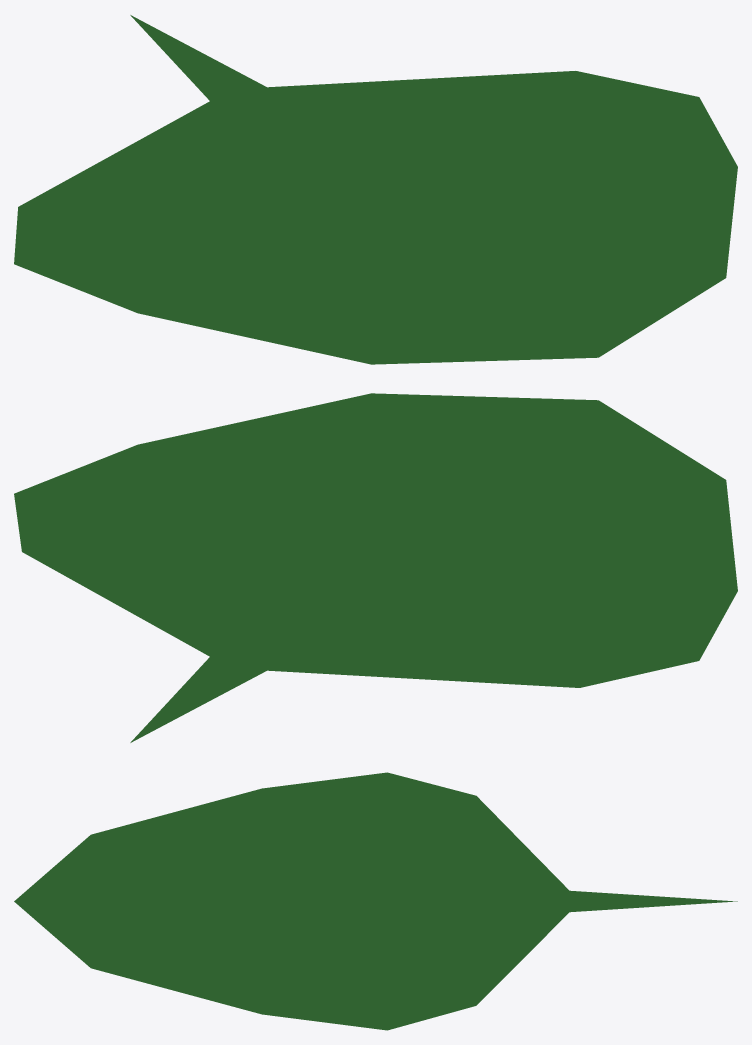
Rendered from TreeLeaves.fbx.
3 views of the same model, one above another, from view 1: azimuth 30°, elevation 25°; view 2: azimuth 150°, elevation 25°; view 3: azimuth 270°, elevation 25° (orthographic). The views are drawn at different scales.
Visible parts, largest first — view 1: pPlane33; view 2: pPlane33; view 3: pPlane33.
Part boxes in pixels (left/top/right/bottom): pPlane33: left=14, top=15, right=737, bottom=364; pPlane33: left=14, top=393, right=737, bottom=742; pPlane33: left=14, top=772, right=737, bottom=1030.
Size of the model in its own units: 0.6056 by 0 by 0.7181.
